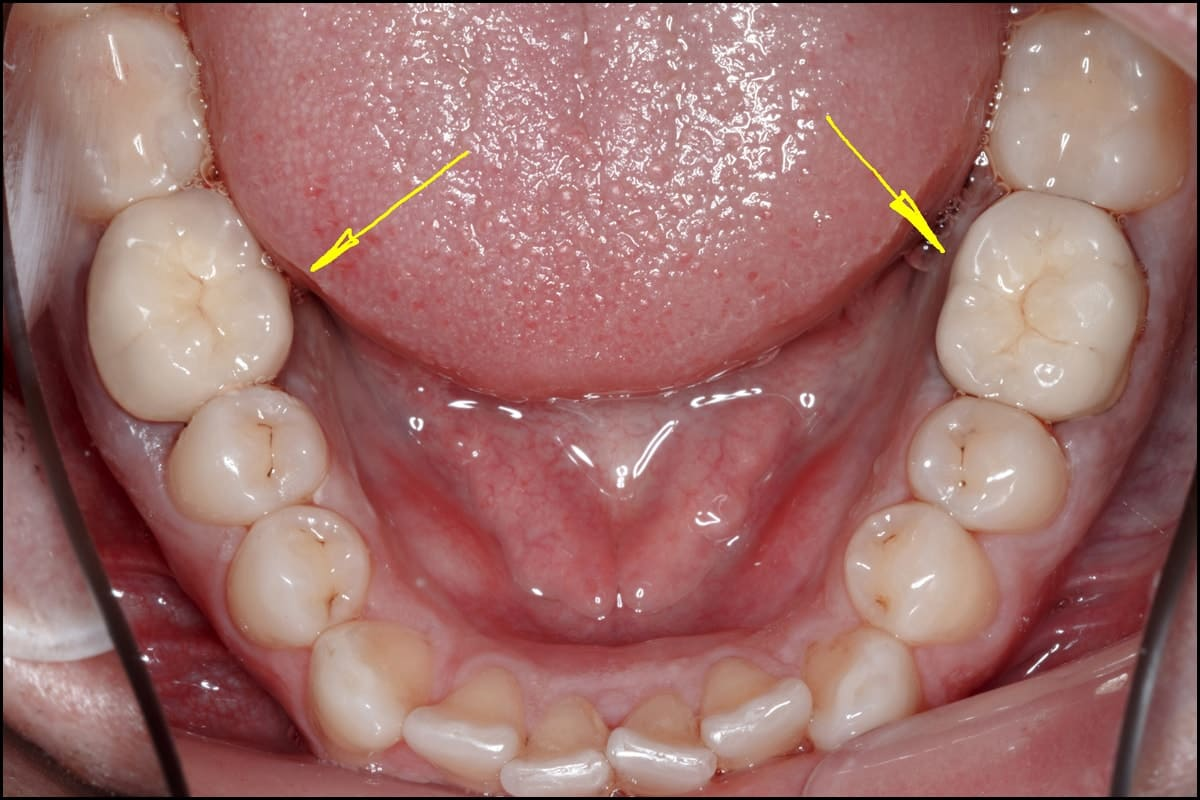LL1BC_decay: (843, 503, 1001, 639)
LL1M_decay: (948, 198, 1131, 403)
LL2BC_decay: (908, 396, 1064, 529)
LL2M_healthy: (995, 22, 1169, 198)
LLCI_healthy: (609, 691, 715, 789)
LLCL_healthy: (703, 662, 810, 765)
LLC_healthy: (808, 628, 918, 748)
LR1BC_decay: (233, 505, 367, 639)
LR1M_decay: (89, 189, 290, 418)
LR2BC_decay: (175, 389, 329, 514)
LRCI_healthy: (504, 700, 609, 797)
LRC_healthy: (311, 622, 429, 746)
LRLI_healthy: (403, 667, 522, 780)
